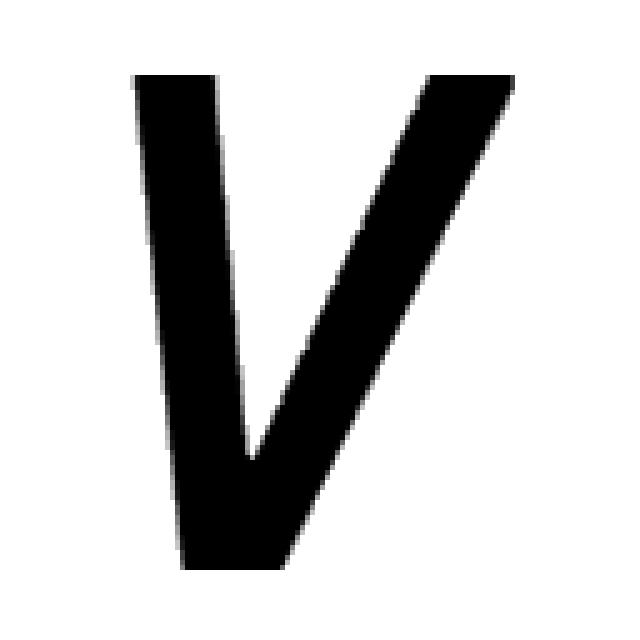V: (120, 60, 520, 575)
